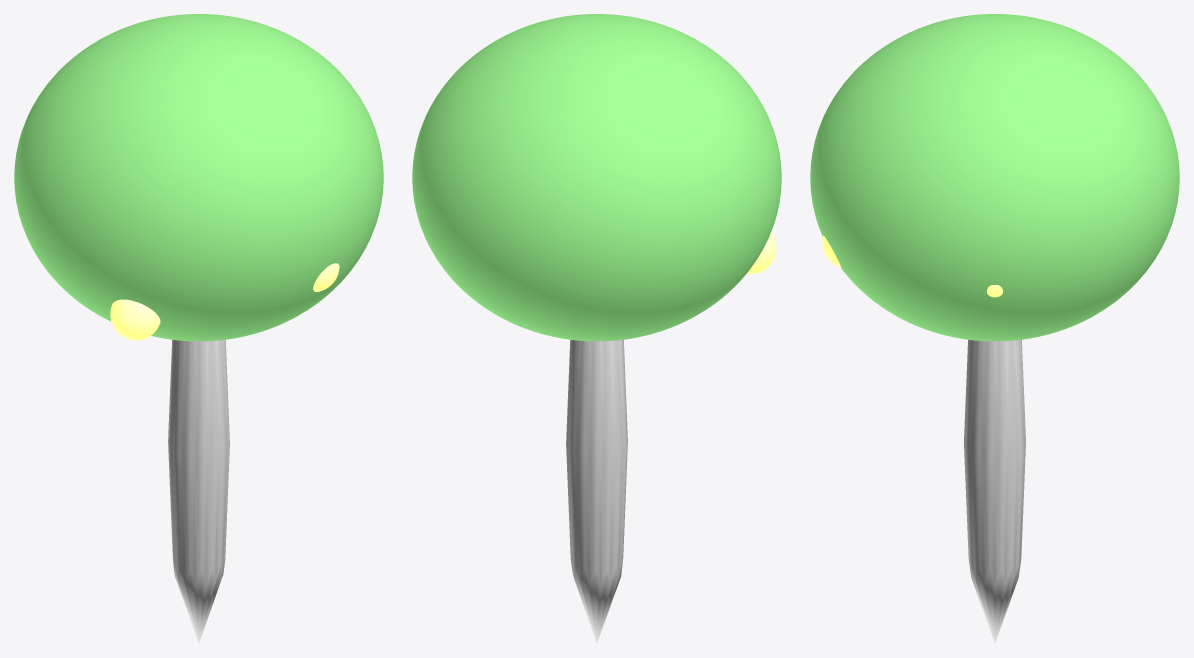
The model's file is farm_tree_lemon_v3.glb.
3 renders of one model, left to right at view 1: azimuth 30°, elevation 25°; view 2: azimuth 150°, elevation 25°; view 3: azimuth 270°, elevation 25°, orthographic.
Visible parts, largest first — view 1: canopy.001, trunk.001, fruit_3.001; view 2: canopy.001, trunk.001, fruit_3.001; view 3: canopy.001, trunk.001.
Part boxes in pixels (x1,y1,x2,y2): canopy.001: [14, 14, 383, 341]; trunk.001: [168, 339, 229, 643]; fruit_3.001: [110, 299, 160, 340]; canopy.001: [412, 14, 781, 341]; trunk.001: [566, 339, 627, 643]; fruit_3.001: [746, 232, 776, 274]; canopy.001: [810, 14, 1179, 341]; trunk.001: [964, 339, 1025, 643].
Size of the model in its own units: 1.08 by 1.96 by 1.08.
